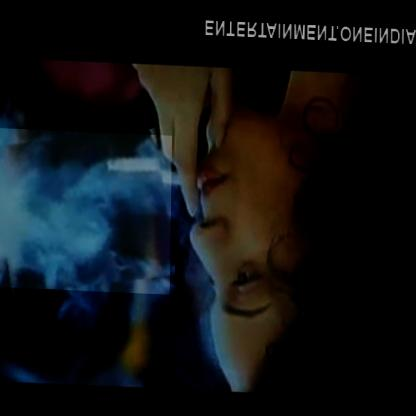smoke: (0, 128, 173, 293)
